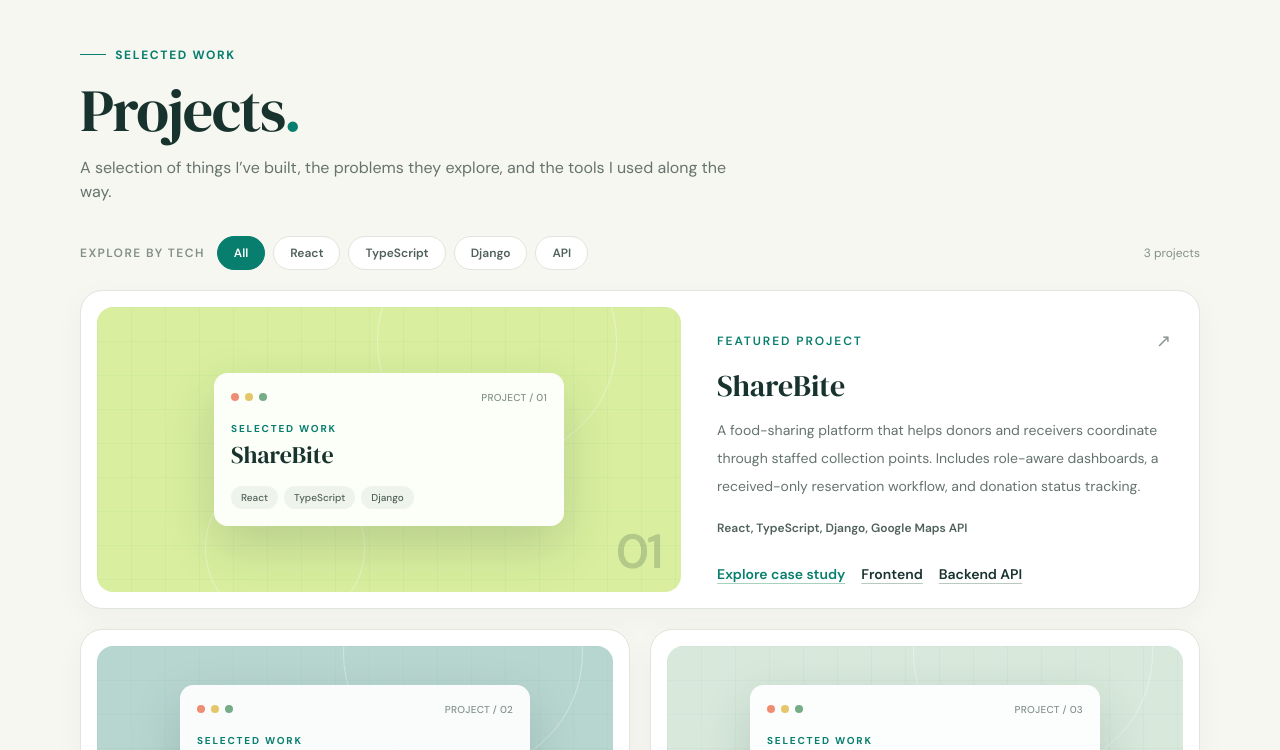
filters projects by technology
Click the button "React" at point(307, 252), box [273, 236, 340, 270]
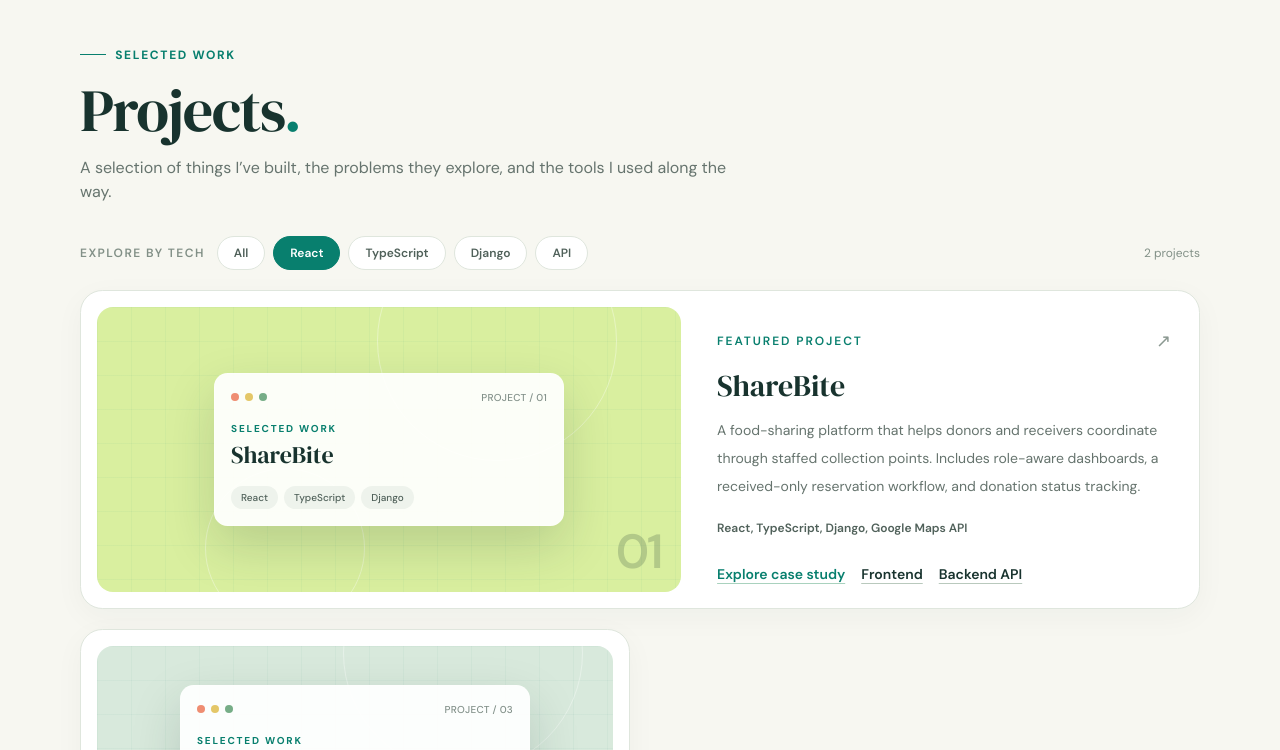
Expected: the heading "ShareBite" is shown, [717, 364, 845, 406]
Expected: the text "EcoNuclearHub" is not shown
Click the button "Django" at point(491, 252), box [454, 236, 528, 270]
(page scrolled)
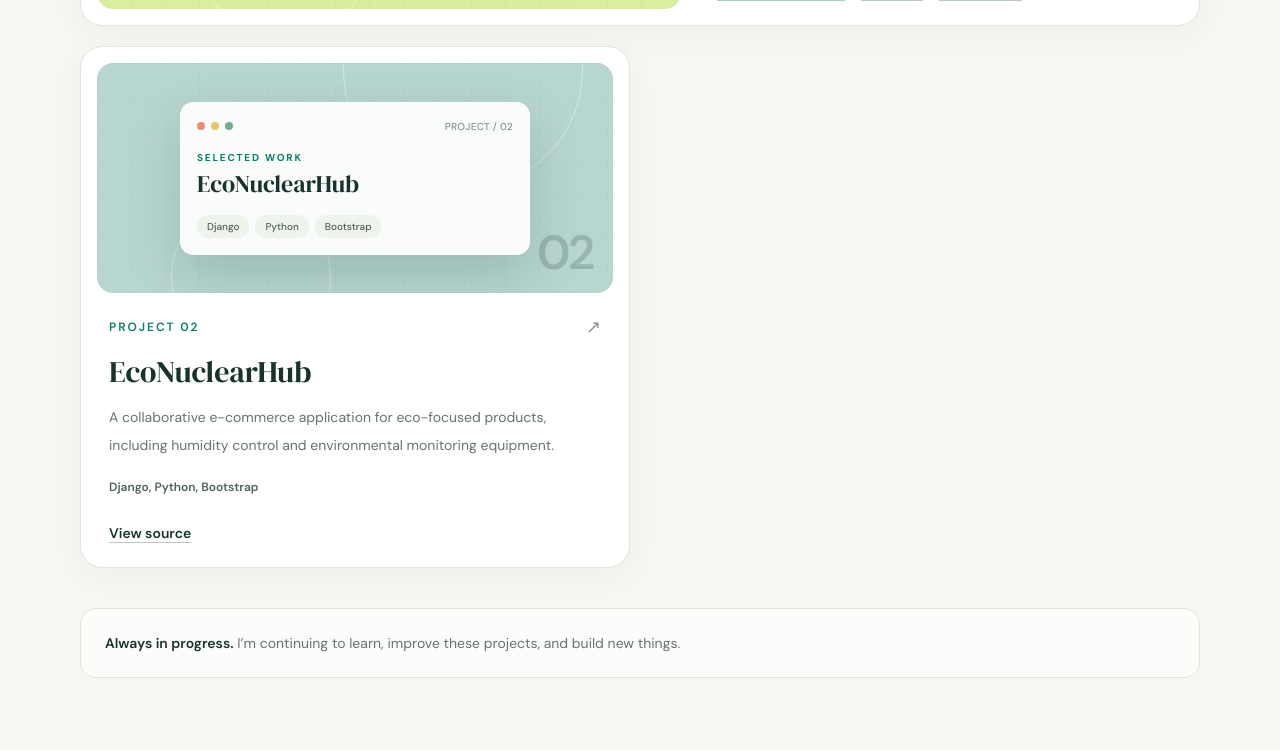
Expected: the text "Portfolio Website" is not shown
Result: the heading "EcoNuclearHub" is shown at [109, 351, 311, 392]
